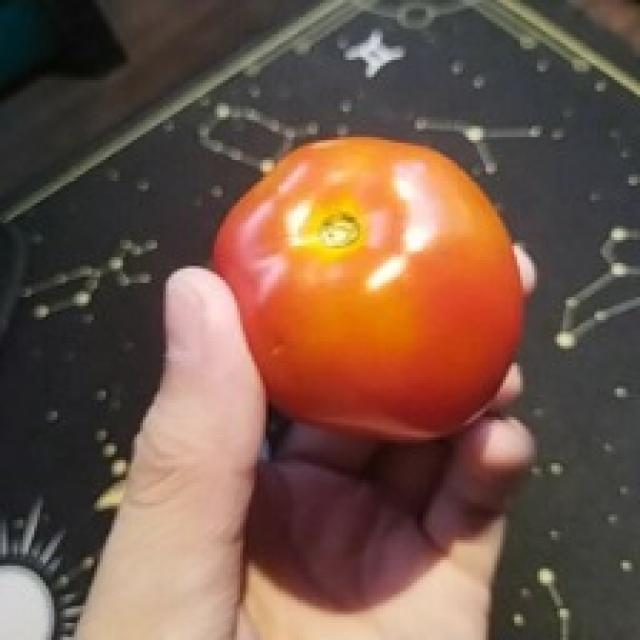Fresh Tomato: (188, 124, 546, 464)
